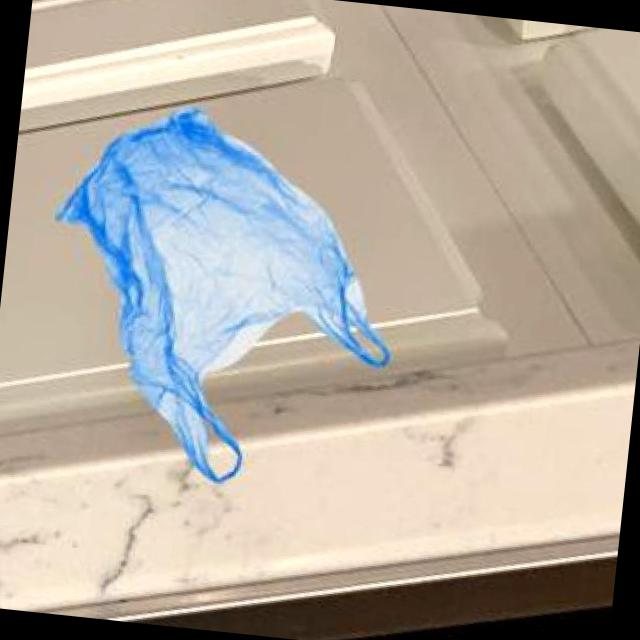KantongPlastik: (29, 92, 418, 503)
